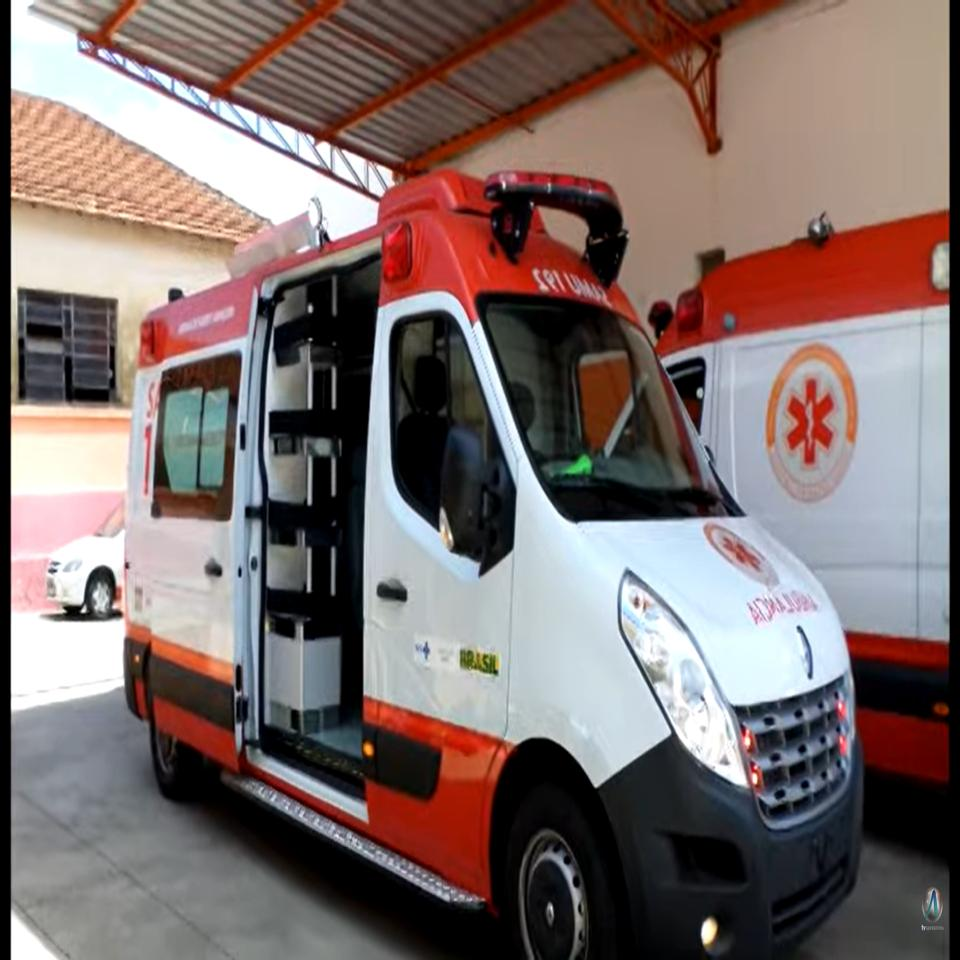bombeiro: (118, 163, 871, 960)
